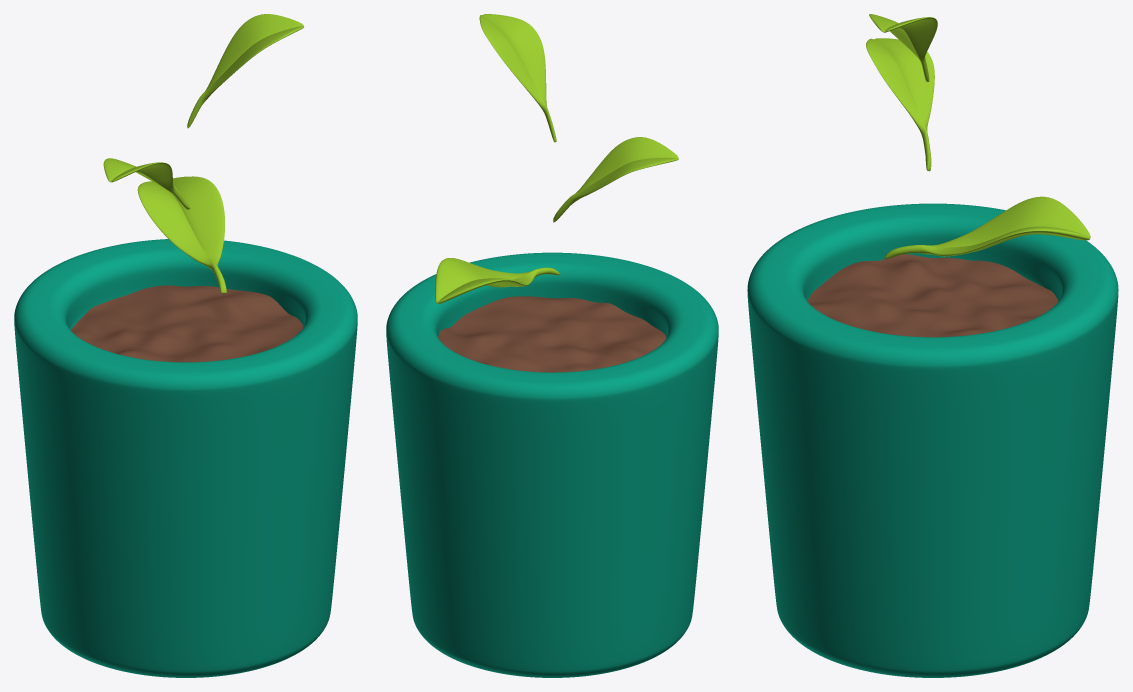
Rendered from Growth_step0.fbx.
3 views of the same model, side by side, from view 1: azimuth 30°, elevation 25°; view 2: azimuth 150°, elevation 25°; view 3: azimuth 270°, elevation 25° (orthographic). The views are drawn at different scales.
Parts seen in each view (by area): view 1: 円柱, 平面.001, 平面; view 2: 円柱, 平面.001, 平面; view 3: 円柱, 平面.001, 平面.
Part boxes in pixels (<box>): 円柱: <box>14,239,357,677</box>; 平面.001: <box>70,285,303,362</box>; 平面: <box>103,14,303,293</box>; 円柱: <box>386,252,718,677</box>; 平面.001: <box>438,296,666,372</box>; 平面: <box>435,14,678,303</box>; 円柱: <box>747,203,1118,677</box>; 平面.001: <box>807,254,1058,337</box>; 平面: <box>866,14,1090,259</box>.
Bounding box in the file's own units: 1.96 × 3.75 × 1.96.
